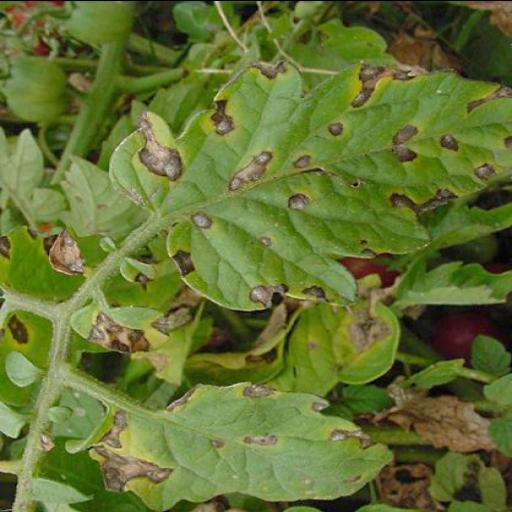disease_tomato: (103, 50, 512, 316), (86, 378, 404, 512), (64, 302, 170, 354)
